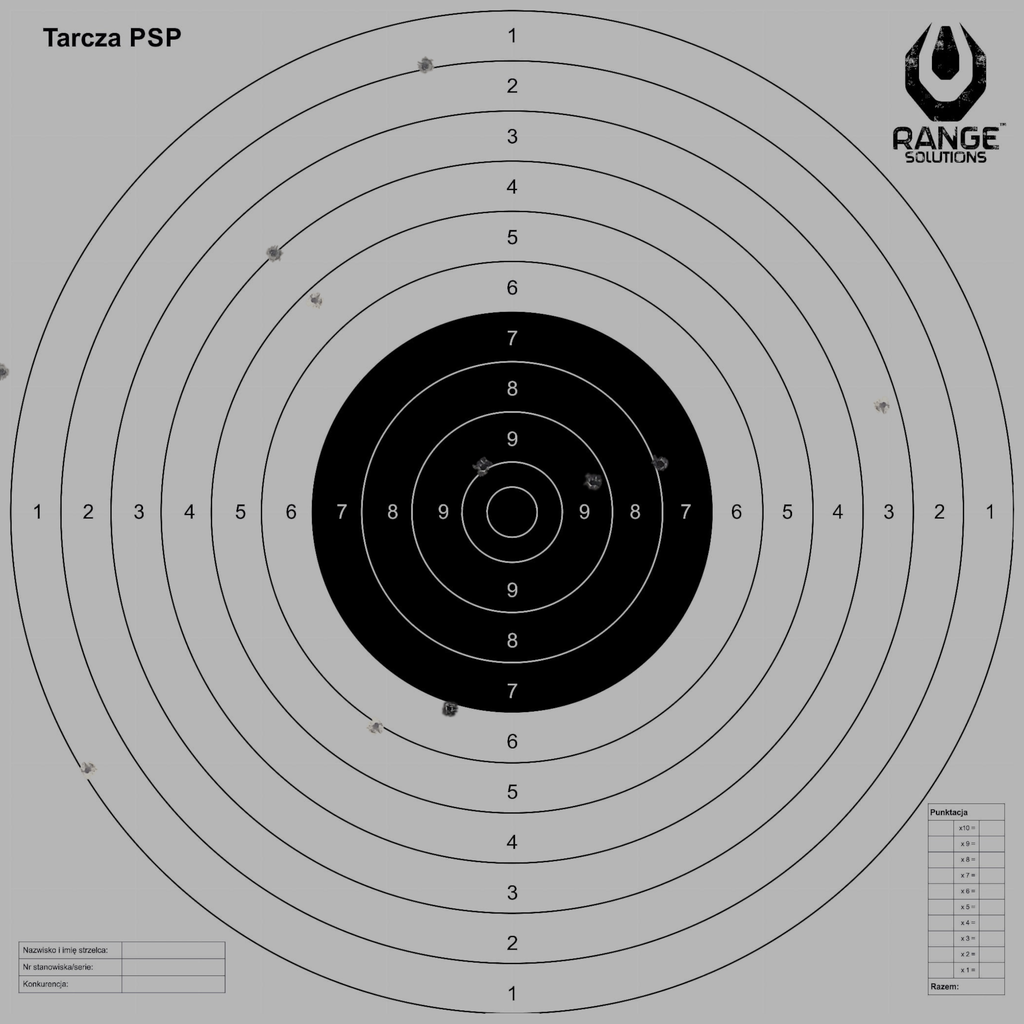0 punktow: (0, 363, 11, 381)
1 punkt: (78, 761, 97, 779)
10 punktow: (474, 457, 493, 476)
2 punkty: (416, 57, 434, 75)
3 punkty: (874, 396, 892, 415)
4 punkty: (265, 244, 283, 262)
5 punktow: (306, 291, 324, 309)
6 punktow: (367, 717, 385, 735)
7 punktow: (440, 699, 458, 717)
8 punktow: (651, 454, 669, 473)
9 punktow: (583, 473, 602, 492)
